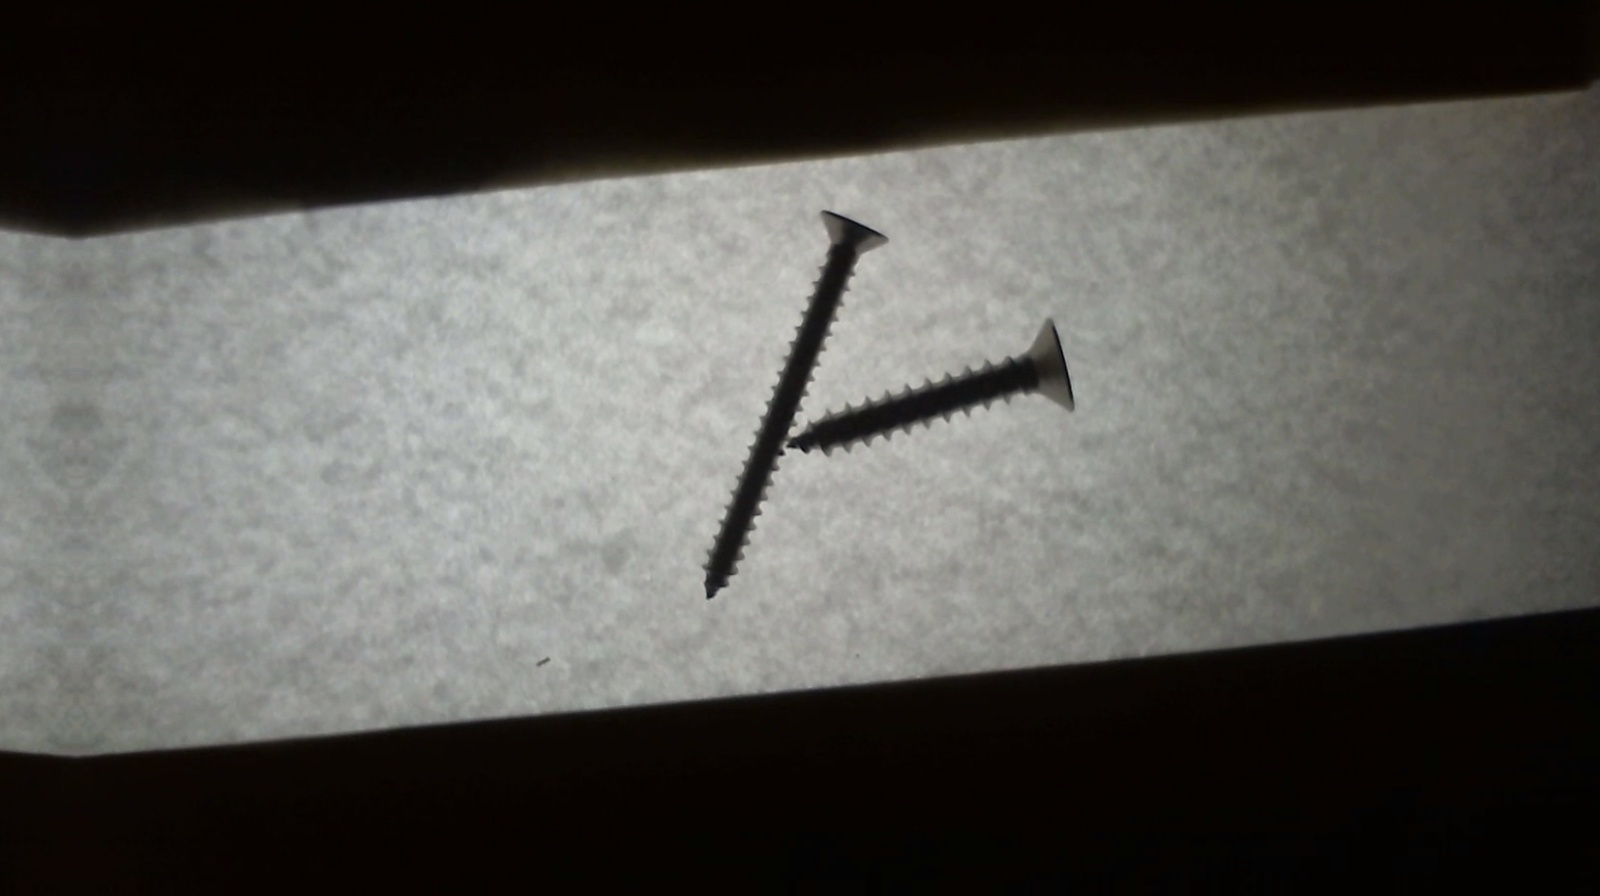S001: (786, 314, 1082, 463)
S002: (700, 207, 893, 607)
